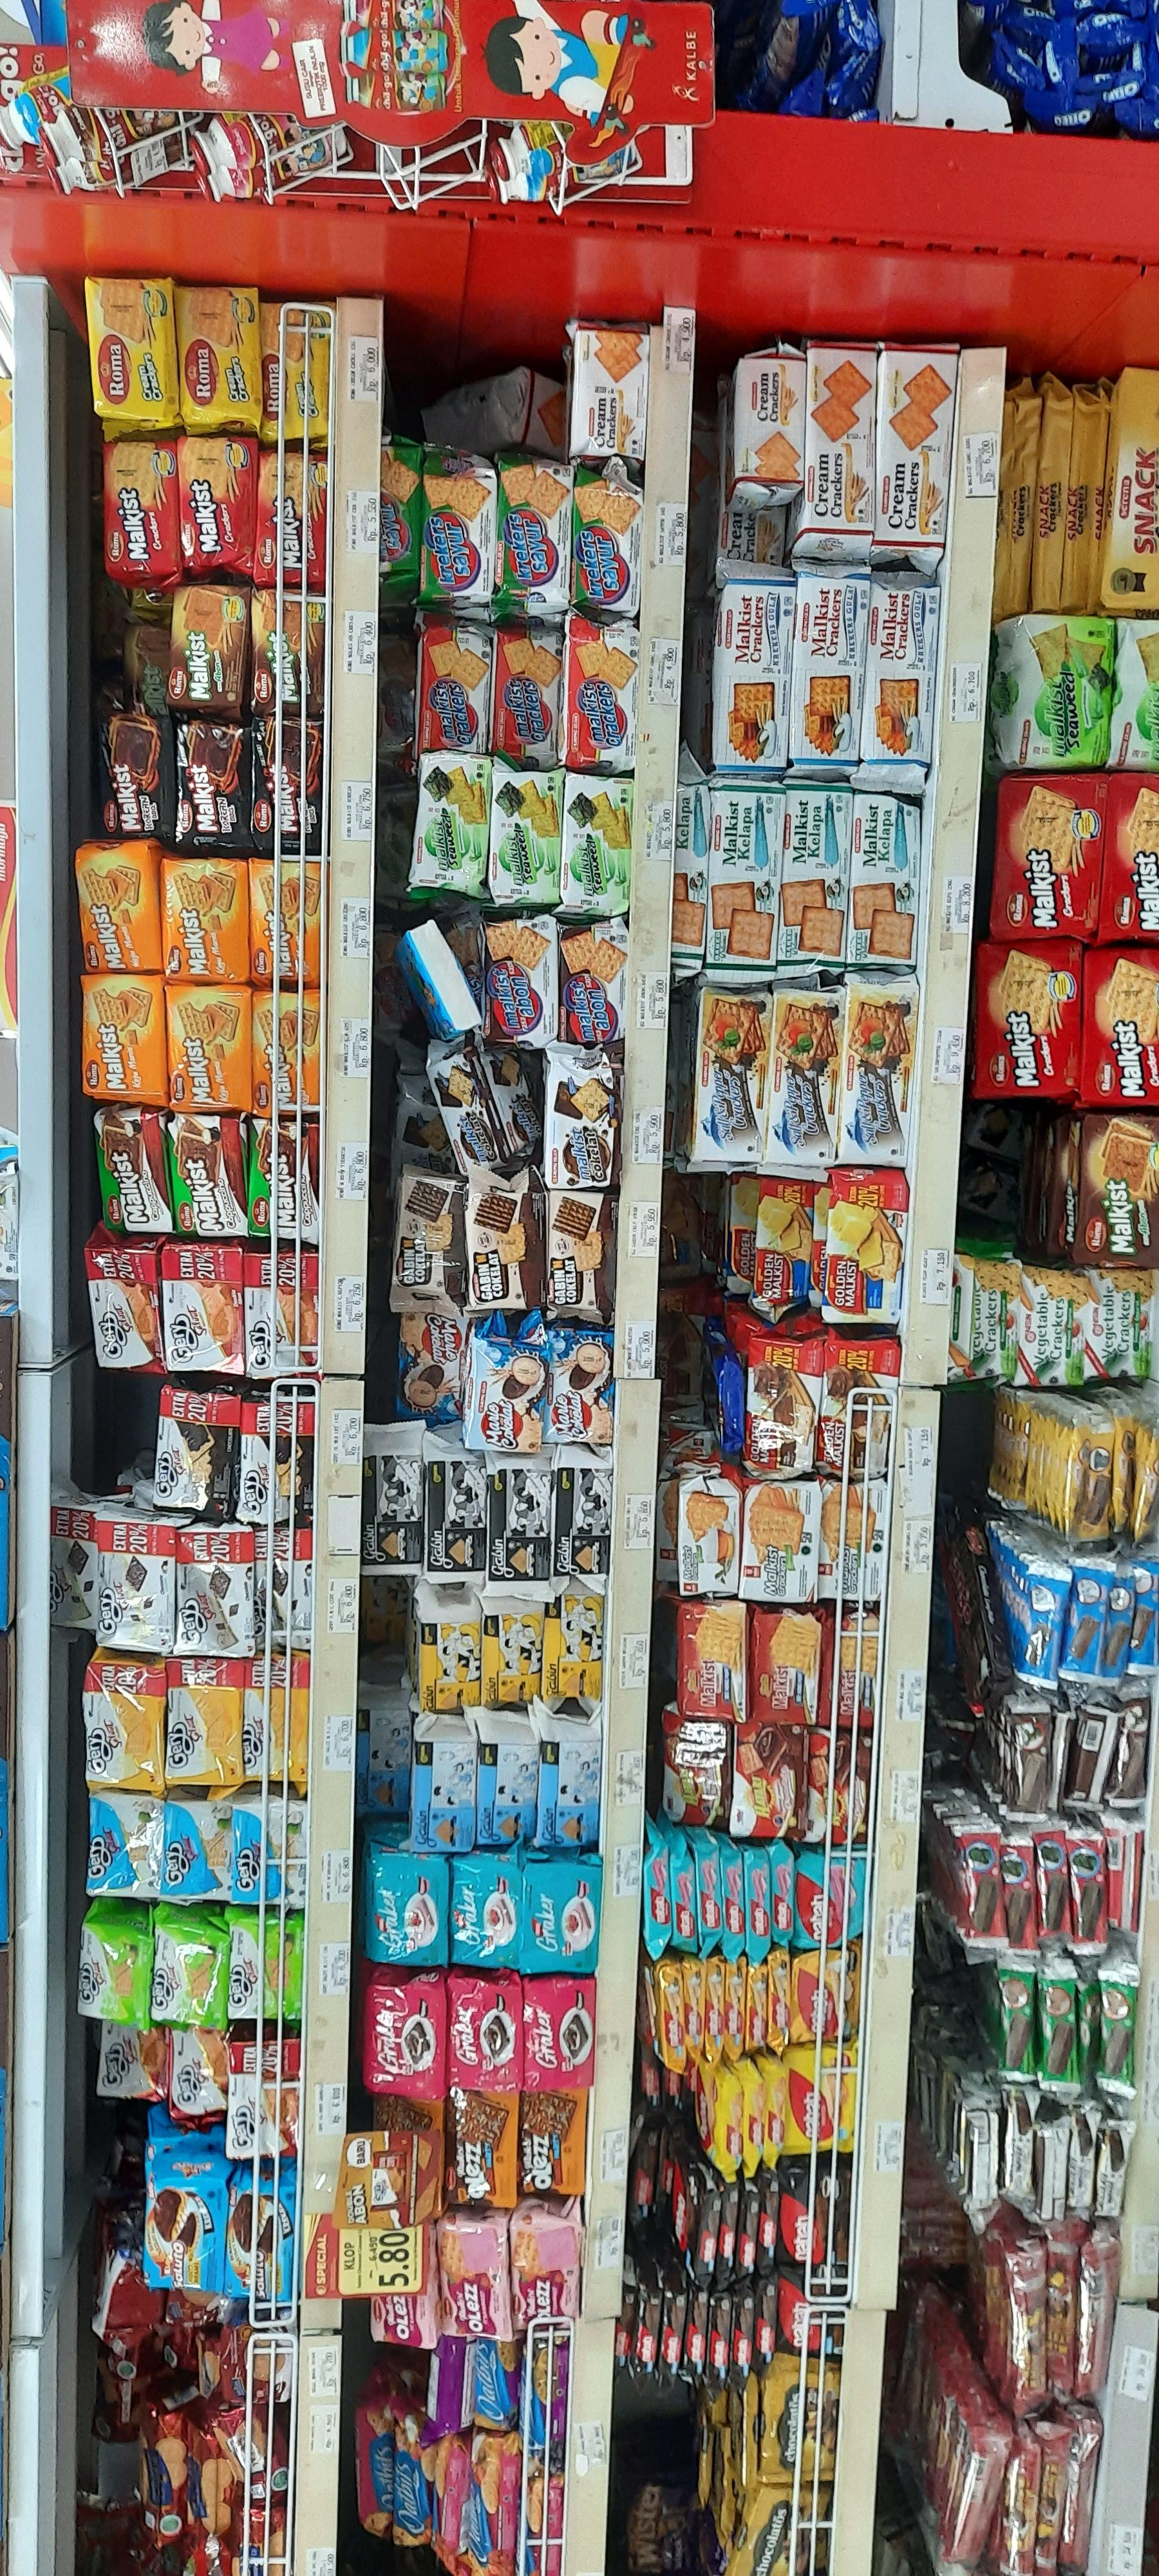90101225202101: (158, 1388, 238, 1520), (236, 1395, 317, 1526)
90101225205101: (82, 1659, 166, 1789), (166, 1663, 246, 1782), (245, 1658, 310, 1781)
90101225209100: (89, 1796, 164, 1899), (231, 1802, 305, 1906), (167, 1801, 230, 1906)
90101225212100: (76, 1898, 156, 2032), (156, 1909, 231, 2031), (230, 1912, 309, 2021)
90101225218101: (95, 1515, 179, 1656), (176, 1529, 259, 1669), (258, 1529, 314, 1643)
90101225226101: (77, 1244, 163, 1370), (163, 1247, 246, 1375), (245, 1252, 328, 1378), (228, 2042, 300, 2159), (167, 2026, 227, 2123), (97, 2027, 164, 2100)
ChocolatorOriginal: (765, 2364, 834, 2481)
HatariCoklat: (727, 1725, 809, 1837), (811, 1732, 877, 1848)
KokolaOlezzChocoParty: (448, 2091, 519, 2205), (517, 2088, 589, 2195)
KokolaOlezzStrawberry: (512, 2213, 584, 2328), (442, 2219, 512, 2334)
KongGuanCrackersGula: (712, 575, 798, 774), (862, 582, 946, 780), (795, 575, 862, 766)
KongGuanCrackersKelapa: (706, 790, 783, 981), (778, 790, 854, 981), (849, 790, 924, 979)
KongGuanCreanCrackers: (803, 345, 875, 568), (880, 347, 952, 570), (729, 356, 806, 511), (571, 334, 647, 458)
KongGuanKrekersSayur: (420, 447, 491, 606), (499, 455, 568, 614), (573, 463, 642, 623)
KongGuanMalkistAbon: (555, 920, 630, 1050), (481, 918, 555, 1046)
KongGuanMalkistCokelat: (547, 1051, 612, 1189)
KongGuanMalkistCrackers: (414, 608, 491, 751), (492, 626, 570, 769), (568, 626, 645, 769)
KongGuanMalkistSeaWeed: (992, 616, 1113, 770), (407, 757, 491, 900), (494, 769, 563, 907), (563, 777, 632, 915)
KongGuanMarieSalutCoklat: (470, 1337, 543, 1456), (397, 1313, 463, 1431), (548, 1332, 616, 1446)
KongGuanSalt&PepperCrackers: (681, 987, 773, 1175), (839, 981, 921, 1166), (770, 987, 842, 1170)
Malkist: (752, 1605, 826, 1728), (675, 1600, 749, 1722), (831, 1607, 878, 1732)
NabatiCokelat: (778, 2167, 849, 2267), (770, 2270, 844, 2366)
NabatiGrackerRichberry: (517, 1866, 604, 1980), (368, 1855, 451, 1962), (448, 1860, 514, 1970)
NabatiGrackerRichoco: (522, 1978, 596, 2090), (369, 1981, 443, 2093), (448, 1975, 522, 2085)
NabatiKeju: (785, 2050, 857, 2157)
NabatiLavaPink: (798, 1853, 841, 1948)
NabatiSusu: (795, 1952, 857, 2045)
NissinGabinCokelat: (461, 1183, 529, 1314), (397, 1181, 465, 1313), (548, 1194, 616, 1324)
NissinGabinKeju: (478, 1598, 542, 1710), (543, 1594, 606, 1700), (415, 1618, 481, 1715)
NissinGabinOriginal: (488, 1462, 553, 1605), (422, 1442, 488, 1585), (361, 1437, 420, 1576), (558, 1452, 606, 1595)
NissinGabinSusu: (534, 1740, 606, 1850), (409, 1741, 478, 1851), (479, 1741, 538, 1848)
NissinGoldenMalkistCokelat: (821, 1342, 900, 1483), (747, 1337, 818, 1479)
NissinGoldenMalkistMentega: (822, 1175, 909, 1334), (749, 1181, 827, 1322)
NissinVegetableCrackers: (1015, 1265, 1082, 1393), (1083, 1267, 1151, 1393), (955, 1257, 1018, 1385)
RomaMalkistAbon: (1082, 1115, 1159, 1265), (166, 586, 251, 711), (253, 588, 338, 713)
RomaMalkistCappuccino: (94, 1109, 176, 1234), (248, 1119, 330, 1244), (169, 1117, 251, 1242)
RomaMalkistCrackers: (995, 777, 1098, 940), (978, 945, 1080, 1107), (105, 442, 181, 582), (256, 448, 330, 590), (182, 439, 256, 578)
RomaMalkistCreamCrackers: (92, 276, 174, 432), (179, 274, 259, 430), (261, 302, 338, 444)
RomaMalkistKeju: (80, 977, 169, 1101), (169, 984, 258, 1107), (74, 851, 161, 973), (166, 859, 253, 979), (251, 991, 327, 1111), (251, 869, 327, 987)
RomaMalkistKorean: (254, 718, 333, 856), (171, 724, 251, 848), (92, 716, 172, 839)
UbmMalkistCrackers: (744, 1483, 821, 1603), (819, 1485, 895, 1603), (676, 1464, 739, 1597)
